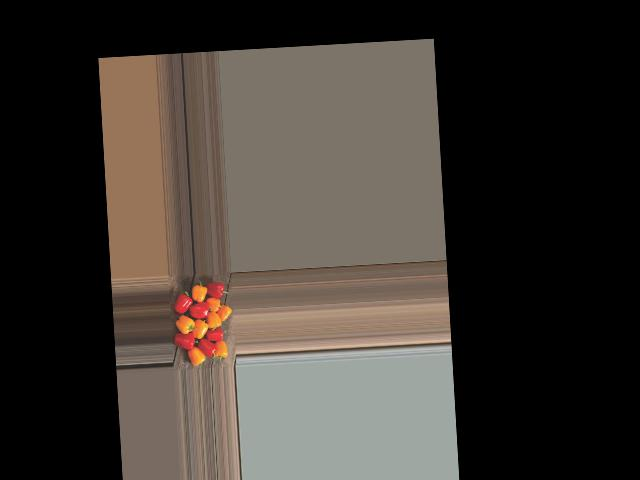bell_pepper: (183, 341, 206, 367)
